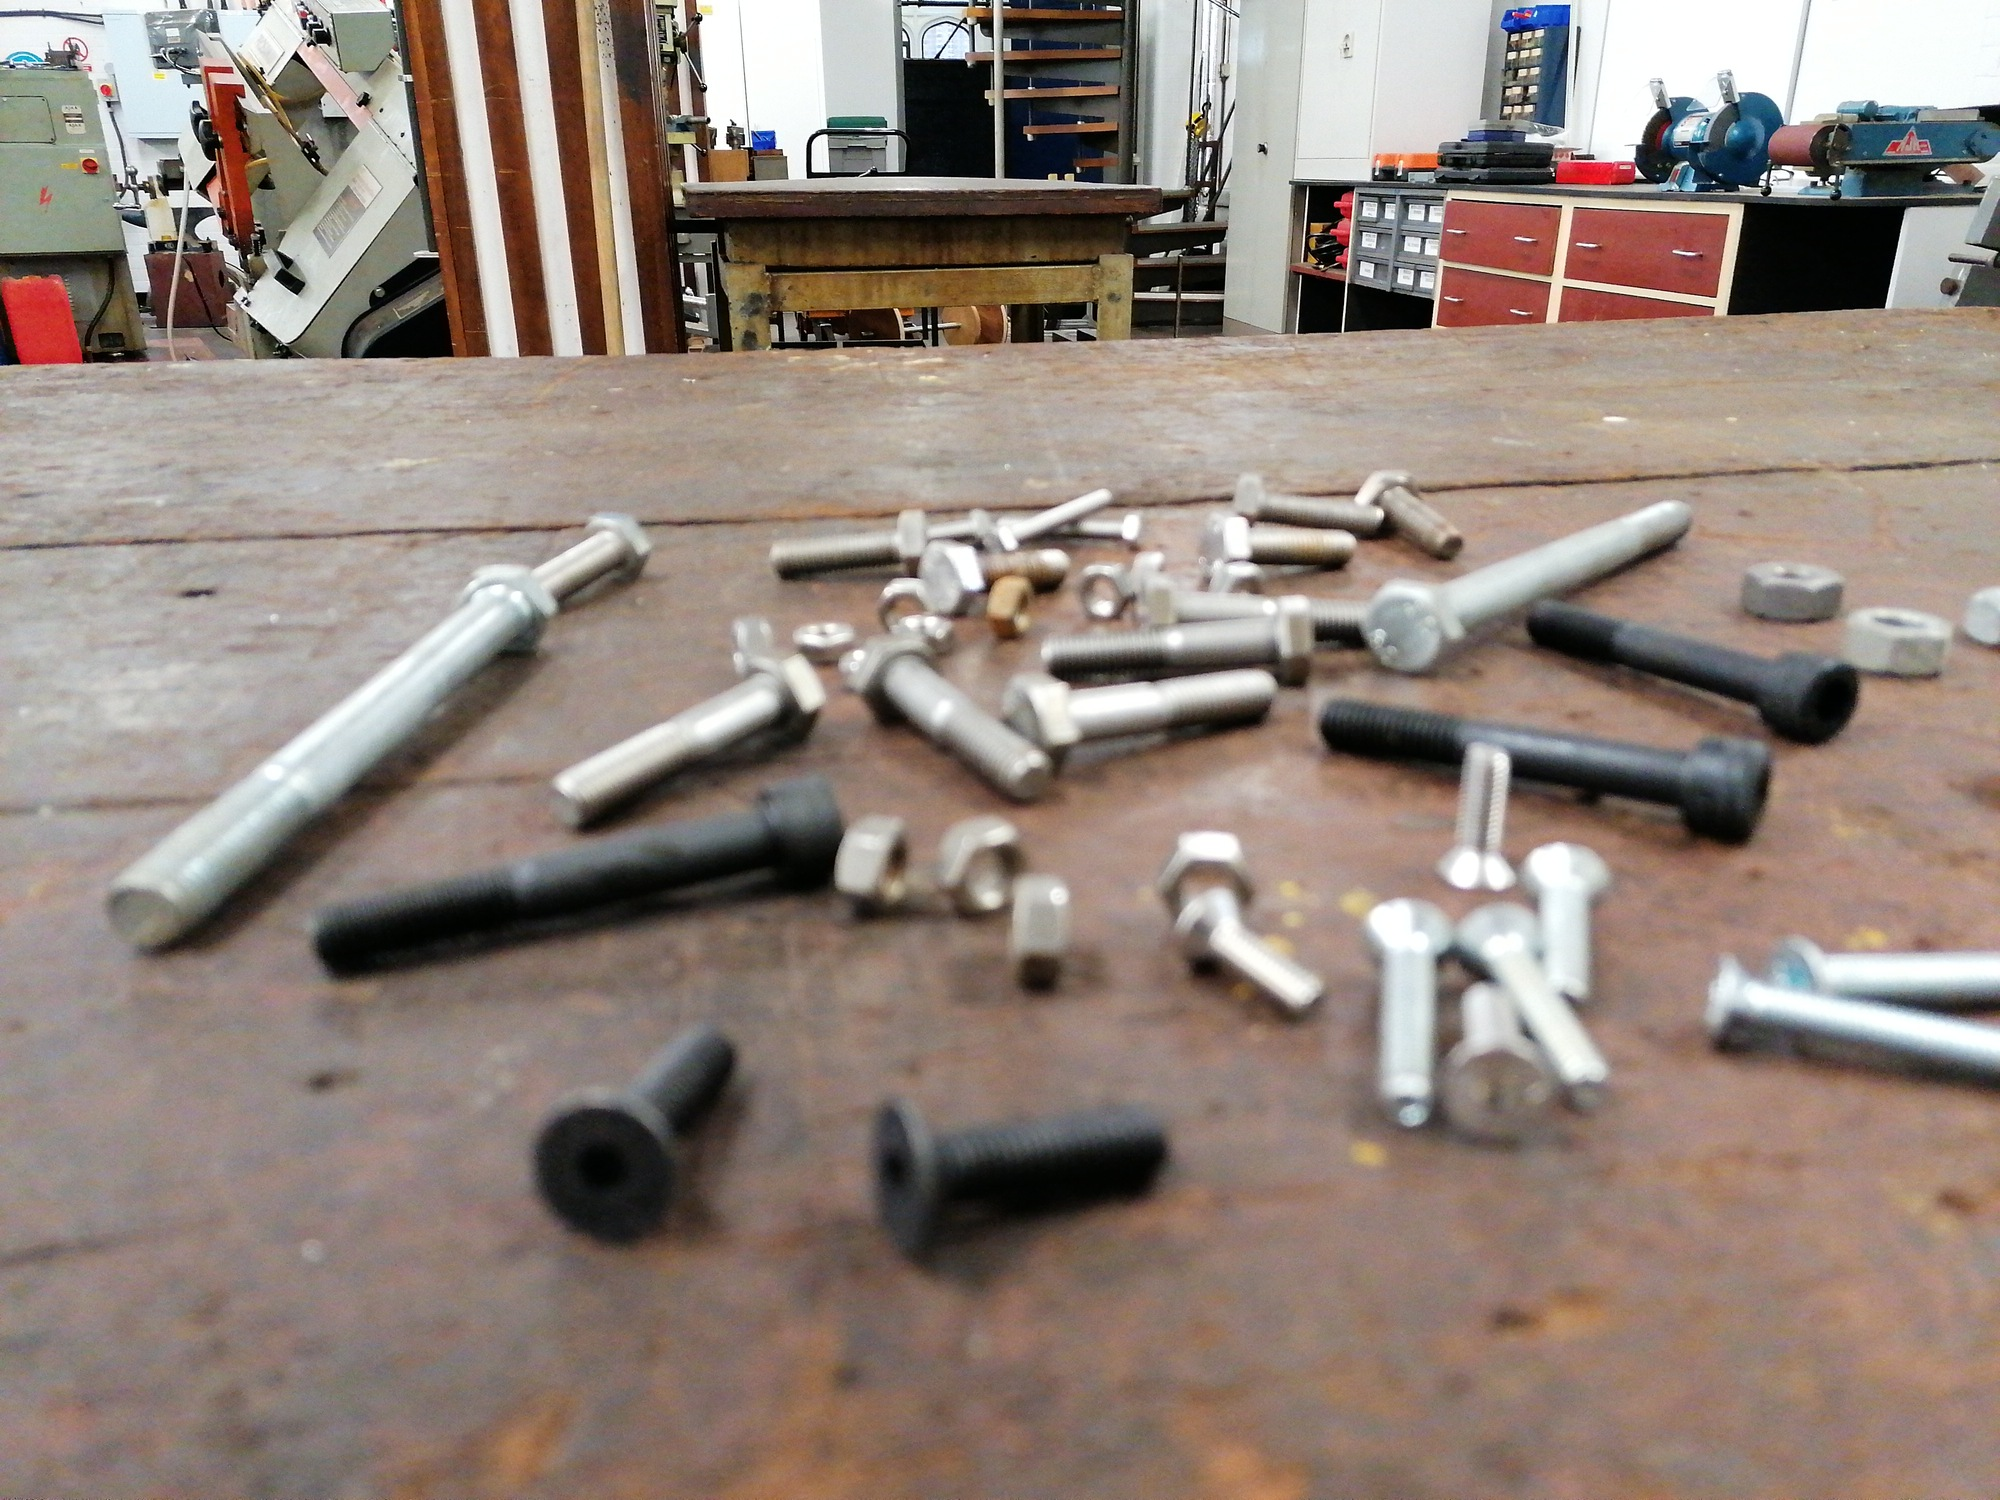bolt: (99, 562, 559, 953), (306, 775, 843, 974), (1317, 698, 1772, 849), (1359, 496, 1693, 674), (548, 640, 827, 829), (1523, 599, 1858, 748), (872, 1097, 1165, 1257), (531, 1023, 732, 1246), (1702, 952, 1998, 1086), (1452, 897, 1616, 1119), (847, 633, 1055, 802), (998, 663, 1279, 769), (1039, 592, 1315, 678), (1362, 900, 1454, 1130), (1172, 884, 1326, 1019), (1439, 980, 1559, 1142), (1767, 933, 2000, 1013), (1517, 840, 1613, 1001), (1435, 741, 1517, 893), (769, 506, 928, 583), (917, 537, 1069, 616), (531, 509, 652, 603), (932, 813, 1031, 920), (1354, 468, 1461, 561), (1151, 829, 1255, 922), (1235, 473, 1384, 536), (983, 485, 1115, 553), (1198, 511, 1356, 566), (833, 810, 910, 917), (1006, 870, 1072, 994), (1843, 603, 1951, 678), (1739, 561, 1846, 626), (995, 503, 1143, 545), (874, 577, 939, 637), (1074, 561, 1132, 622), (986, 572, 1035, 640), (791, 619, 858, 663)
